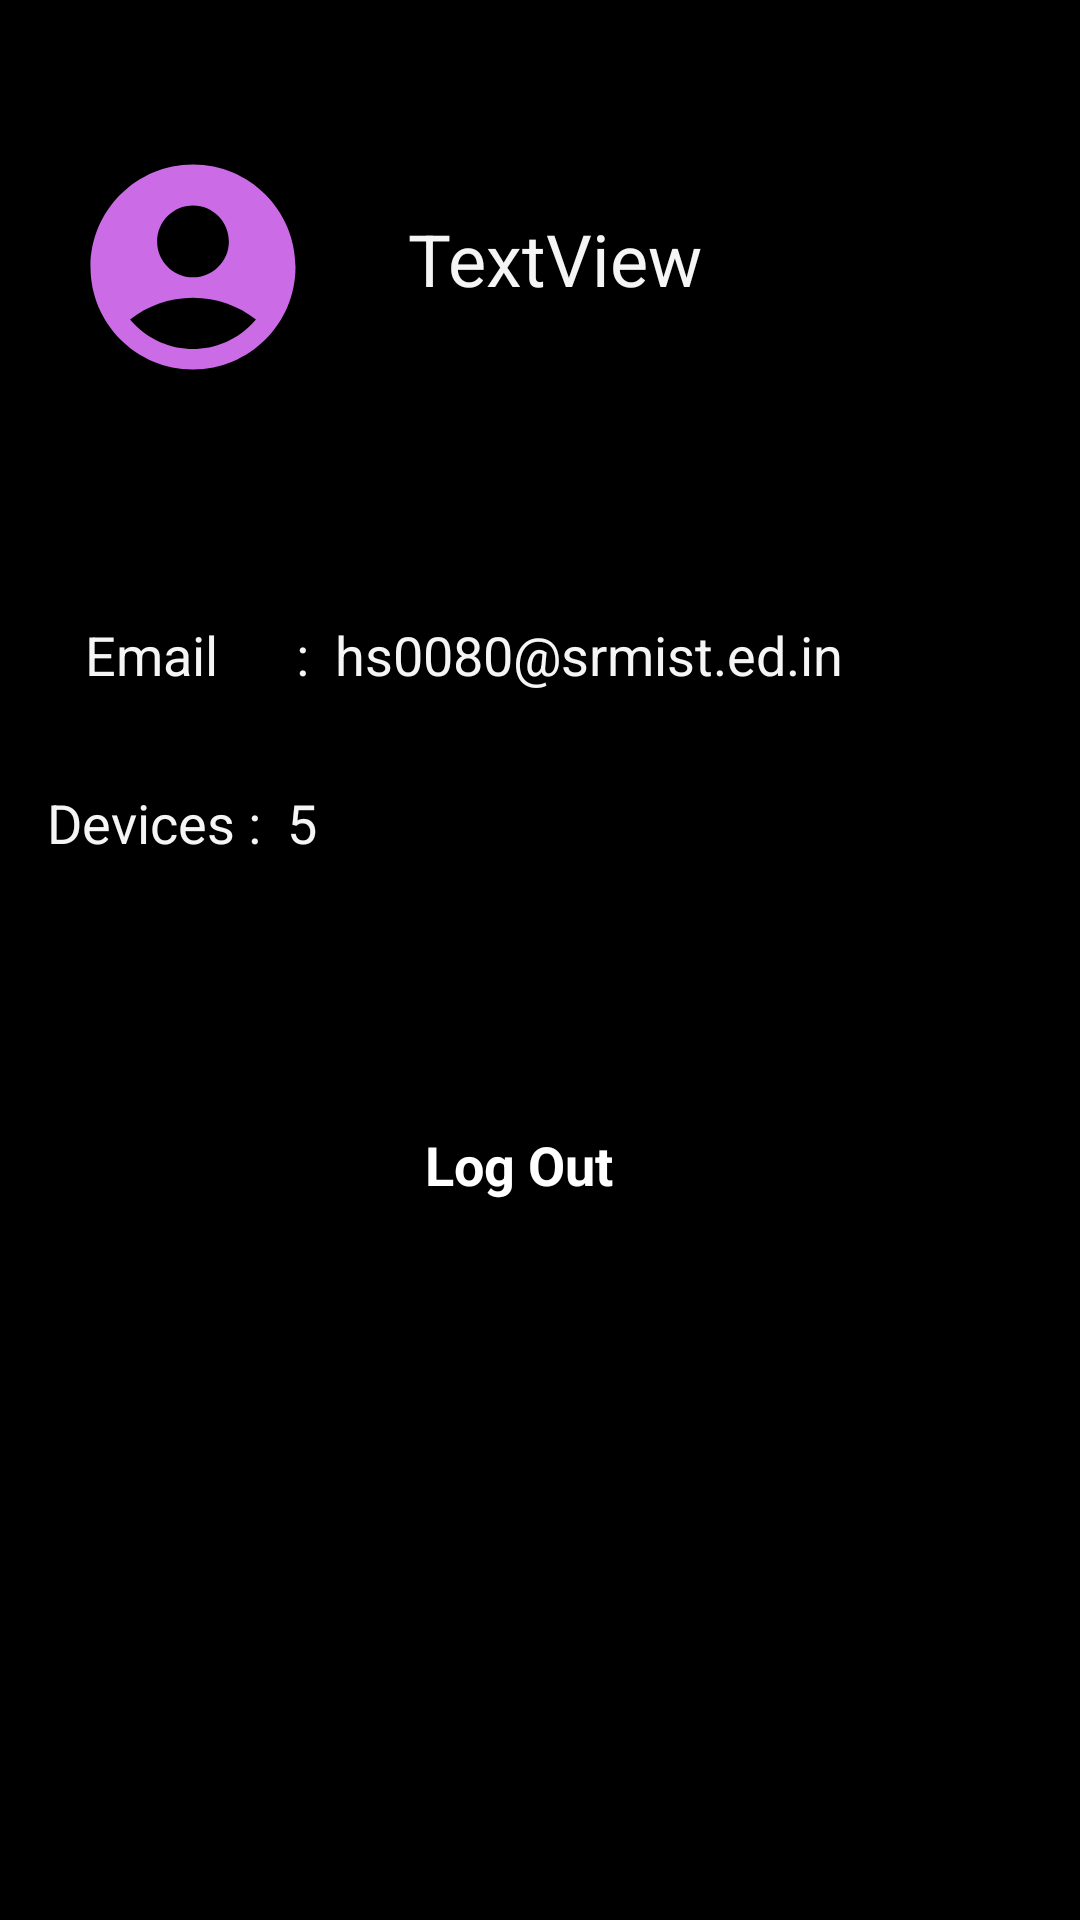

Named icons in this screenshot (1080w x 1920h) and their bounding boxes, bbox(x1, y1, x2, y2):
account circle: bbox(90, 164, 296, 370)
